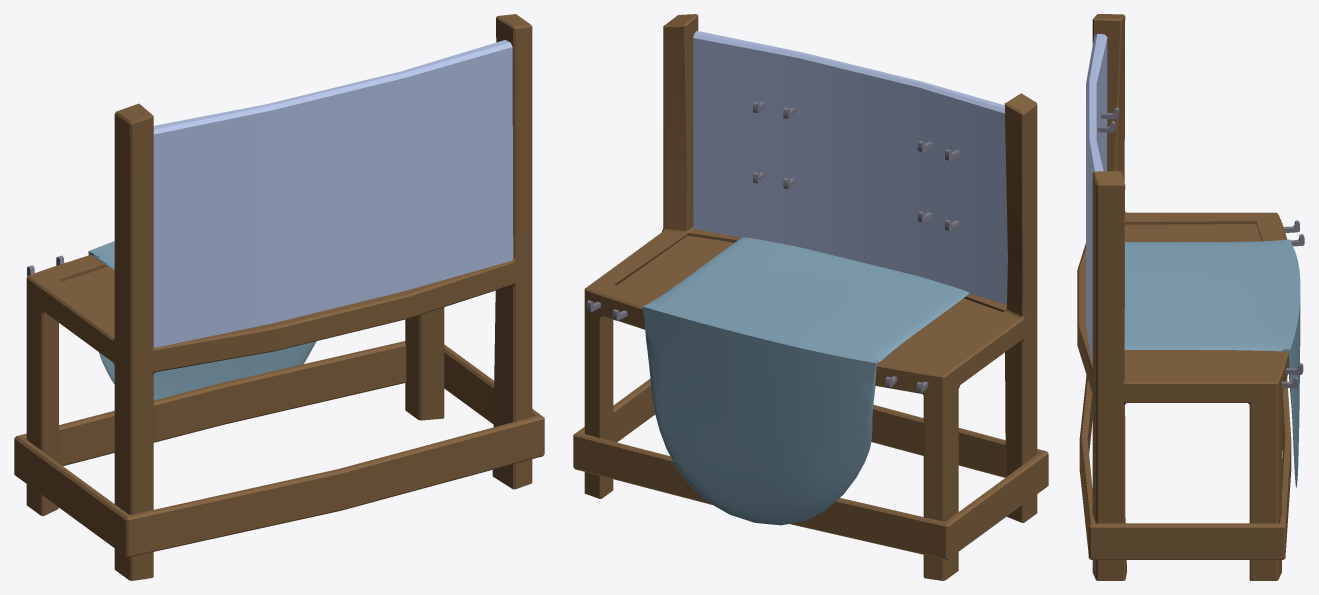
File: Atelier.fbx
3 renders of one model, left to right at view 1: azimuth 30°, elevation 25°; view 2: azimuth 150°, elevation 25°; view 3: azimuth 270°, elevation 25°, orthographic. The views are drawn at different scales.
Visible parts, largest first — view 1: Tablier; view 2: Tablier; view 3: Tablier.
Part boxes in pixels (x1=…): Tablier: x1=14, y1=14, x2=544, y2=580; Tablier: x1=573, y1=14, x2=1048, y2=580; Tablier: x1=1077, y1=14, x2=1304, y2=580.
Size of the model in its own units: 208 by 219 by 113.
